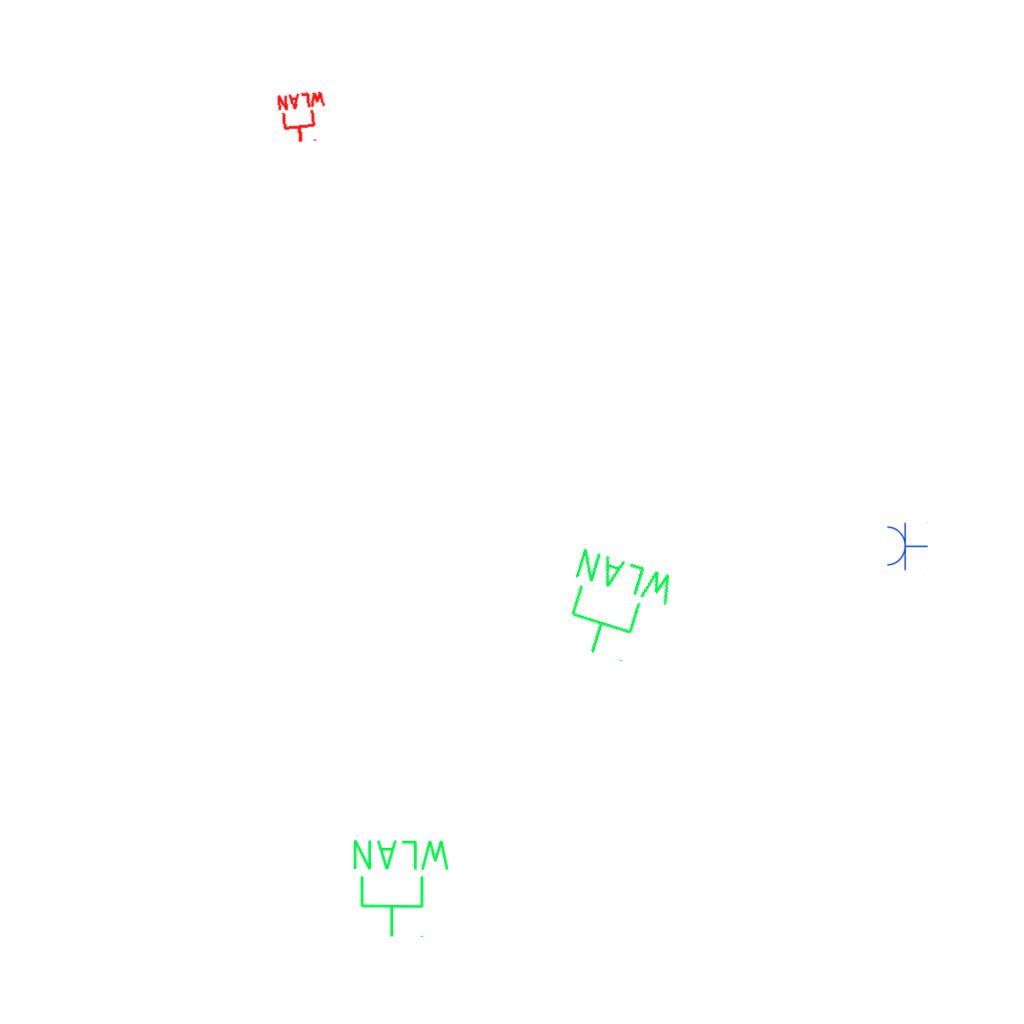Schukosteckdose_einfach: (885, 521, 928, 571)
WLAN: (550, 543, 682, 674), (349, 836, 454, 940), (274, 89, 332, 147)
